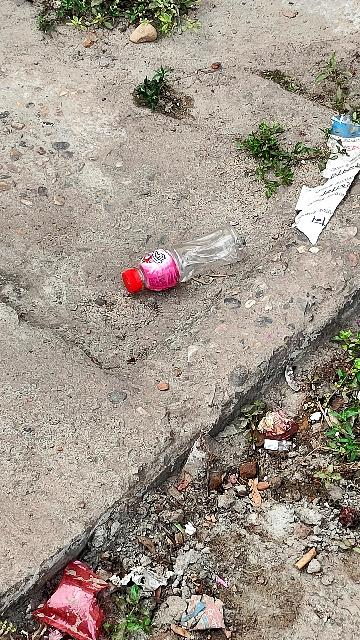bottle: (121, 231, 250, 290)
